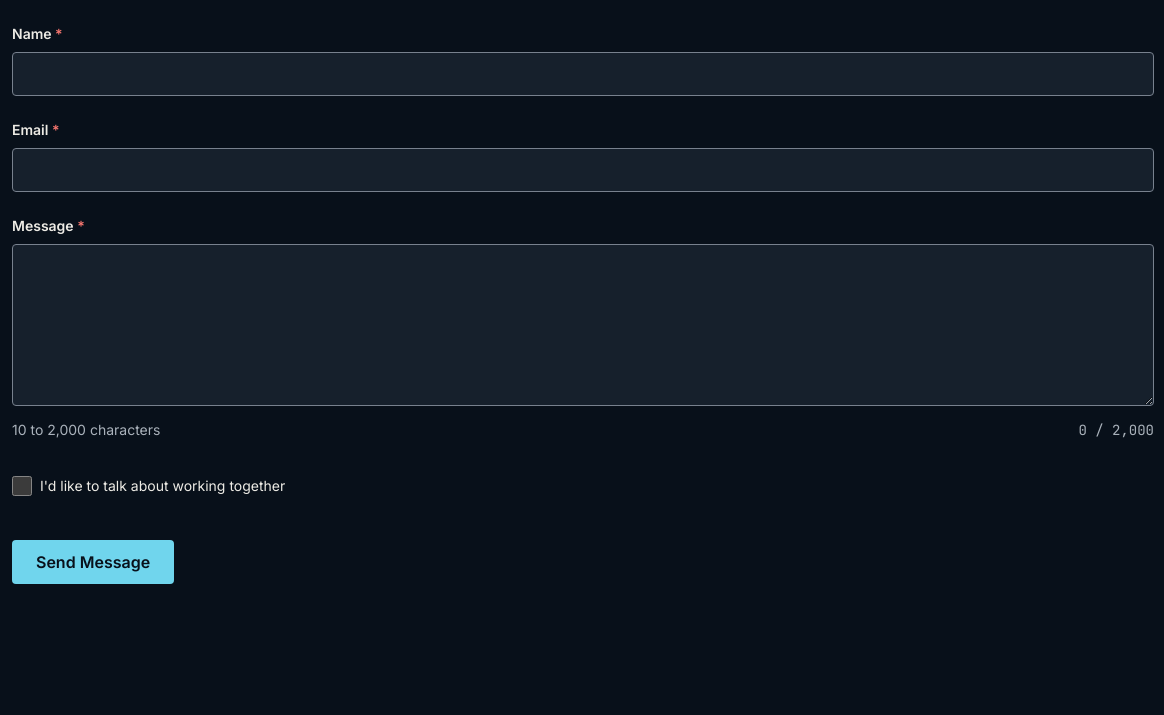
Test: SummitRegister › times out a never-settling send after 15 s, keeps the fields and ignores a late answer
In the field labelled "Name *": {"x": 583, "y": 74} [12, 52, 1154, 96], type "John Doe"
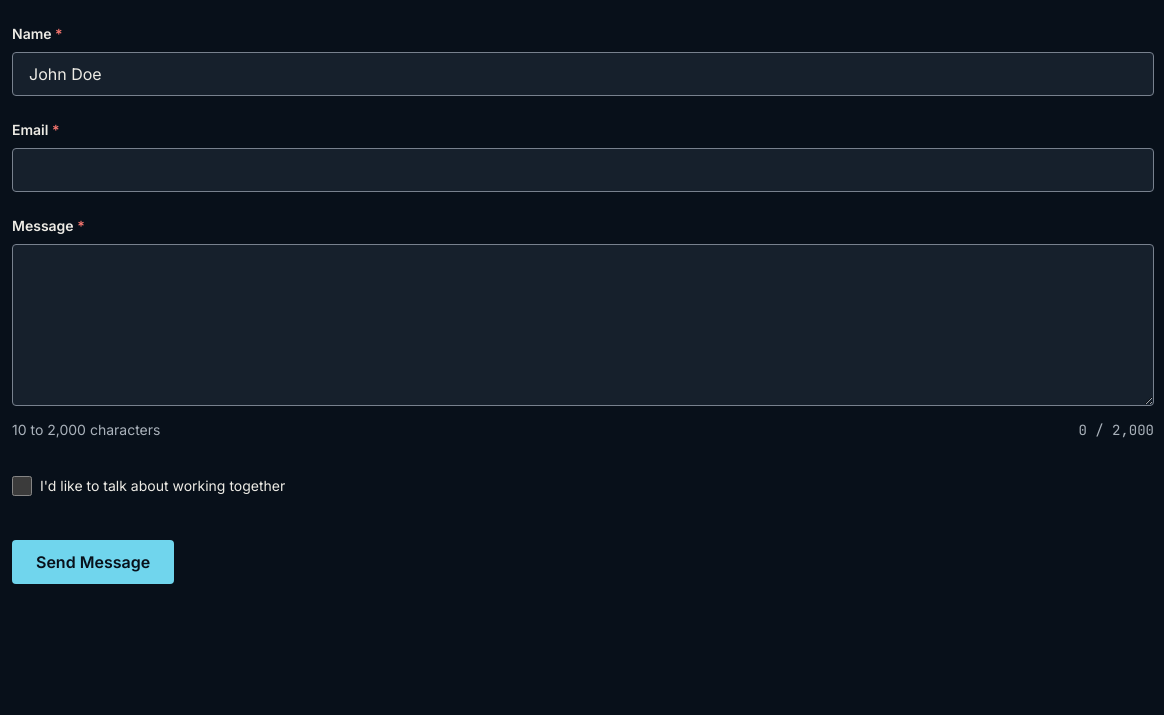
In the field labelled "Email *": {"x": 583, "y": 170} [12, 148, 1154, 192], type "john@example.com"
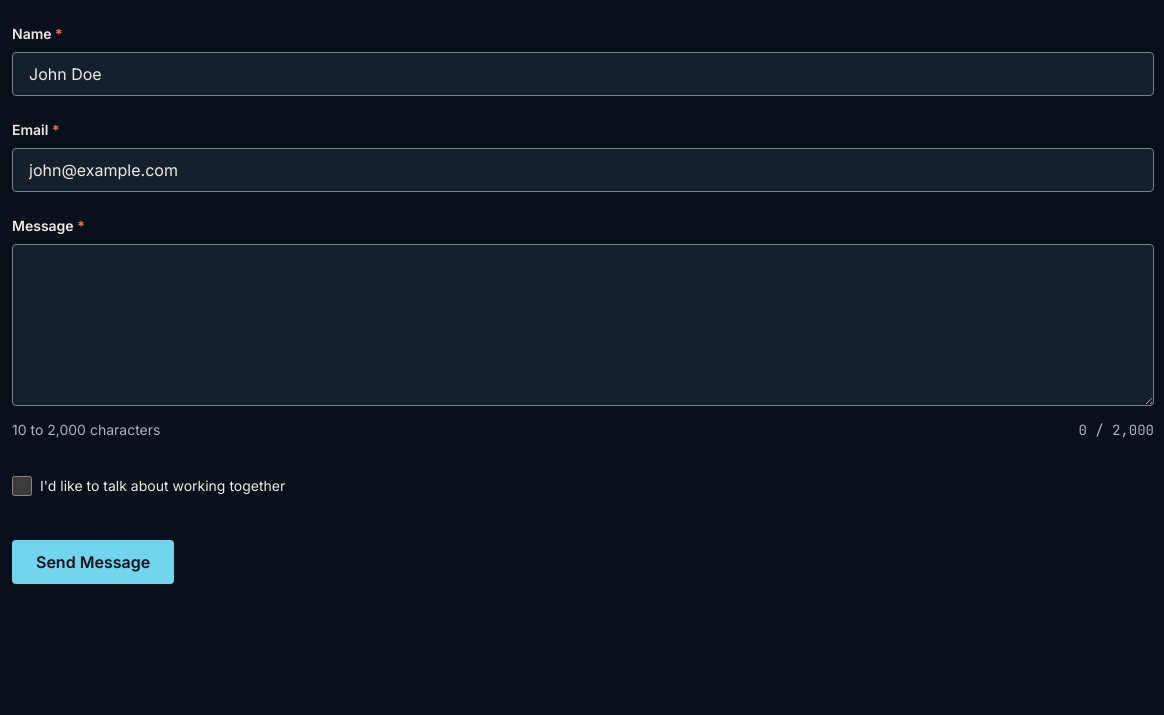
In the text box labelled "Message *": {"x": 583, "y": 325} [12, 244, 1154, 406], type "This is a test message that is long enough."
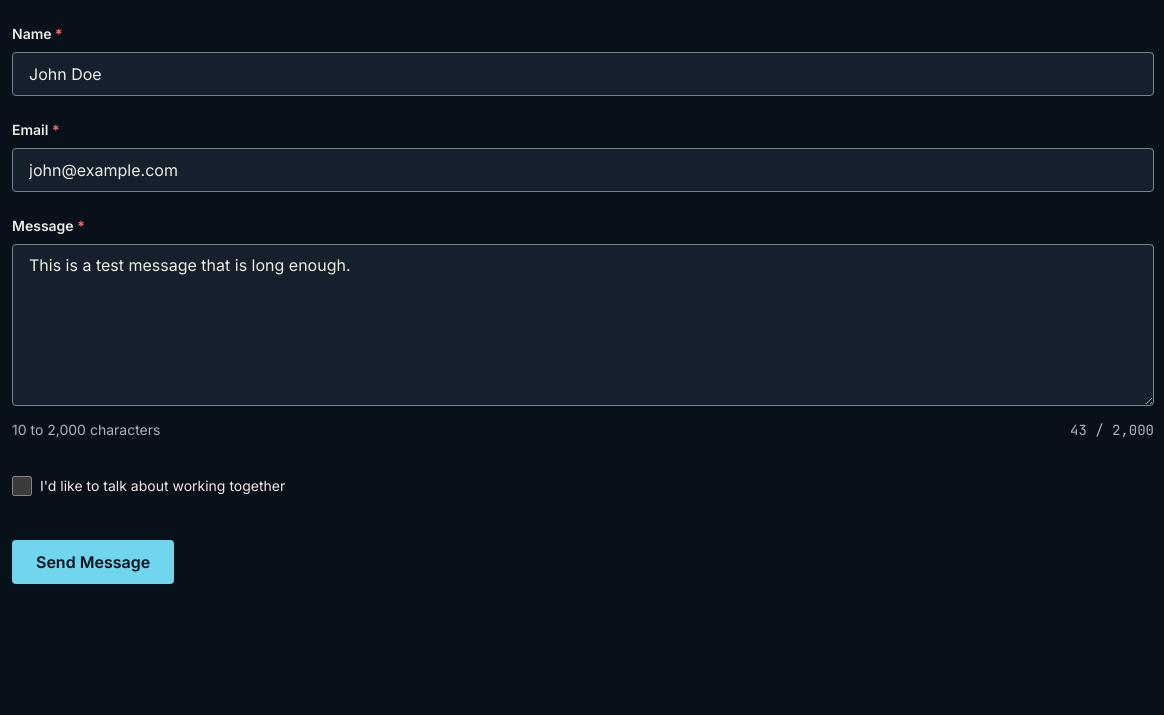
Click the button "Send Message": {"x": 93, "y": 562} [12, 540, 174, 584]
Wait 15000 ms
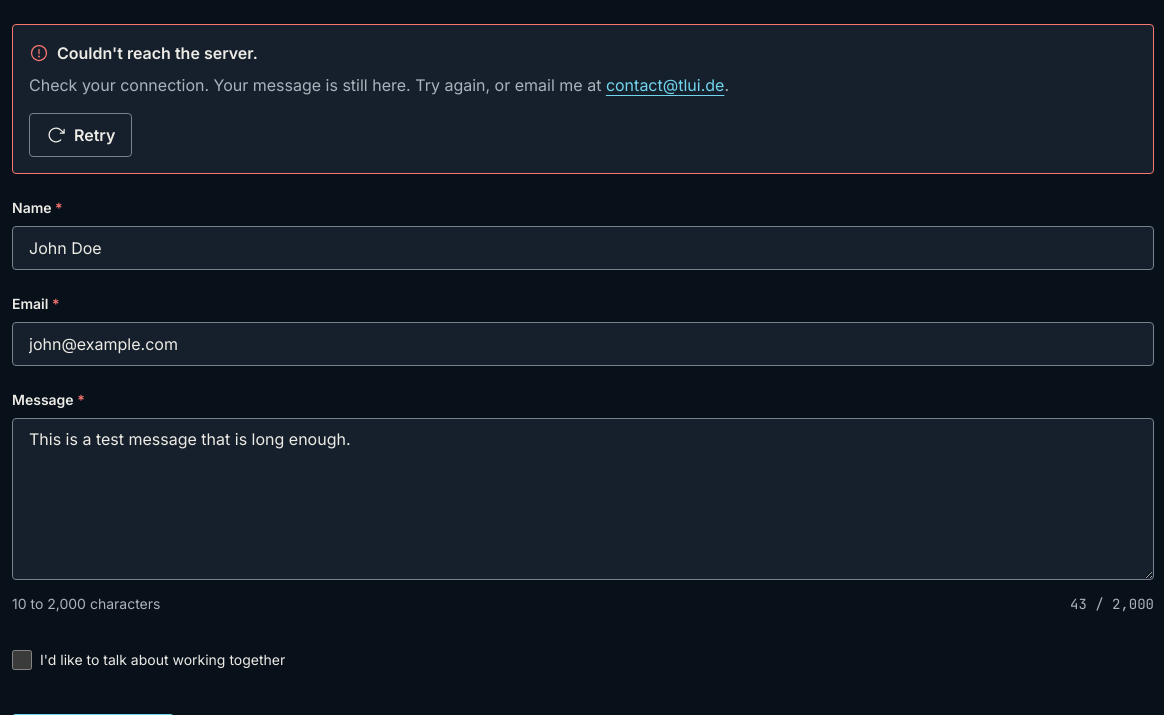
Check: the message shows "Couldn't reach the server.", box [57, 43, 258, 63]
Check: the button with aria-label "Retry sending" is shown, box [29, 113, 132, 157]
Check: the message is shown, box [12, 24, 1154, 174]
